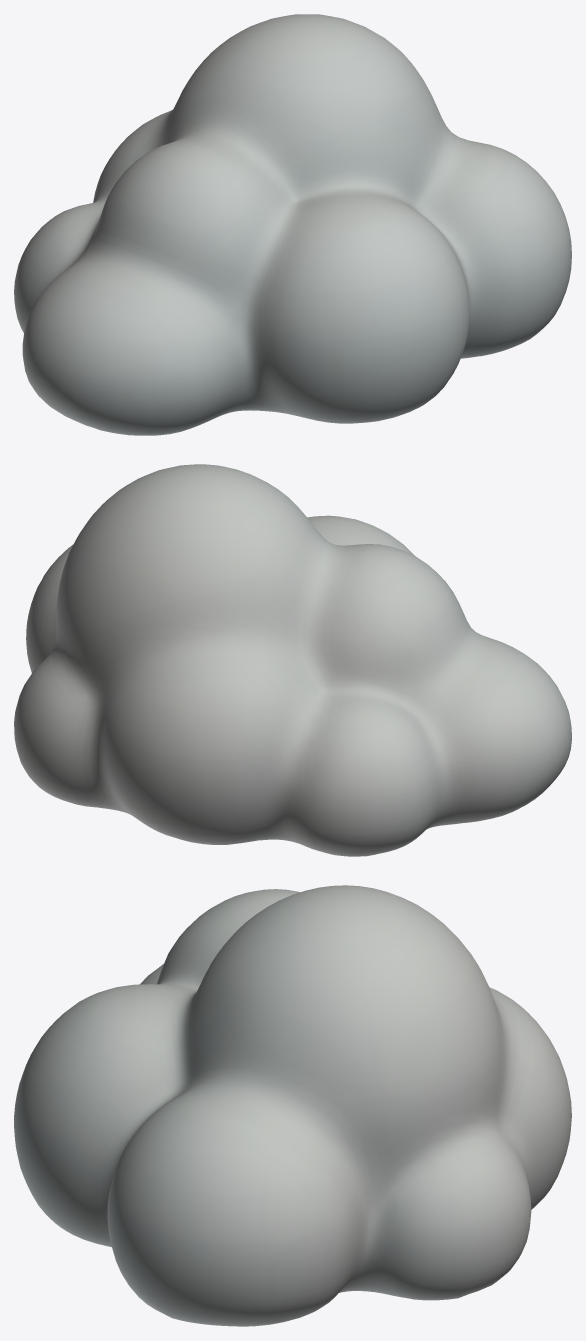
Rendered from Copy of cloud.glb.
The picture shows the model from 3 angles, top to bottom: view 1: azimuth 30°, elevation 25°; view 2: azimuth 150°, elevation 25°; view 3: azimuth 270°, elevation 25°; orthographic projection. The views are drawn at different scales.
Parts seen in each view (by area): view 1: node_id46; view 2: node_id46; view 3: node_id46.
Part boxes in pixels (left/top/right/bottom): node_id46: left=14, top=14, right=571, bottom=435; node_id46: left=14, top=464, right=571, bottom=856; node_id46: left=14, top=885, right=571, bottom=1326.
Size of the model in its own units: 0.512 by 0.2832 by 0.4155.
1 material, 1 textured.
